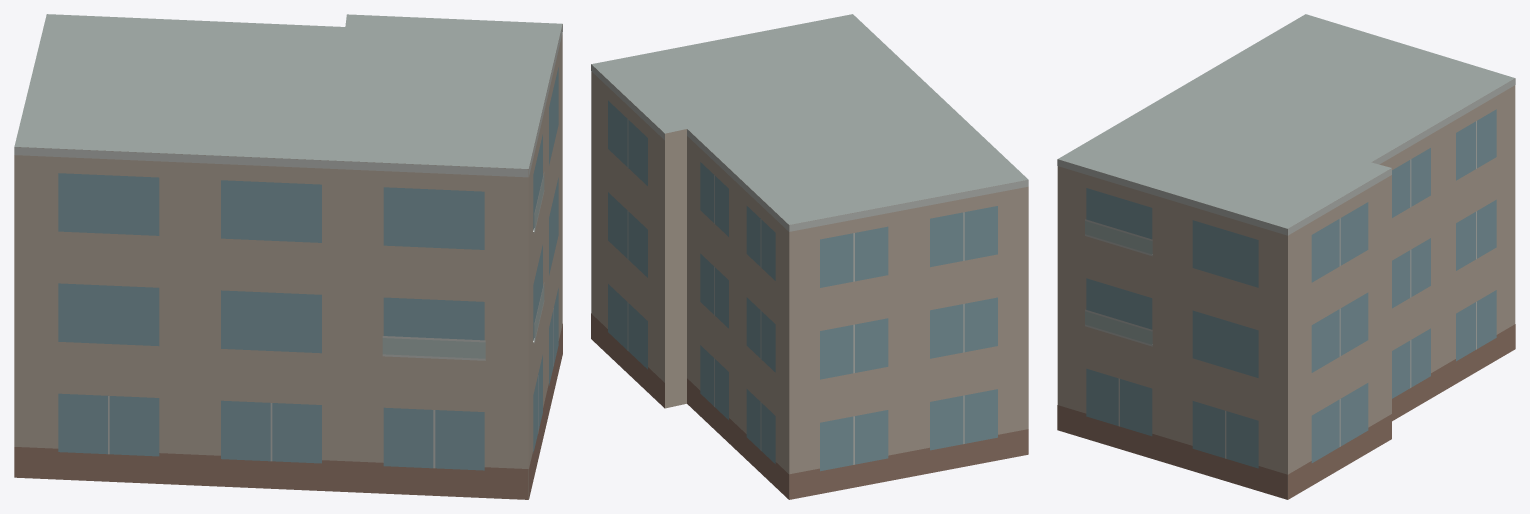
File: survey-upis-32493774.glb
The picture shows the model from 3 angles, left to right: view 1: azimuth 30°, elevation 25°; view 2: azimuth 150°, elevation 25°; view 3: azimuth 270°, elevation 25°; orthographic projection. The views are drawn at different scales.
Visible parts, largest first — view 1: survey-upis-32493774.tmp; view 2: survey-upis-32493774.tmp; view 3: survey-upis-32493774.tmp.
Boxes of the visible parts, x1=… form: survey-upis-32493774.tmp: x1=14, y1=14, x2=562, y2=499; survey-upis-32493774.tmp: x1=591, y1=14, x2=1028, y2=499; survey-upis-32493774.tmp: x1=1057, y1=14, x2=1515, y2=499.
Size of the model in its own units: 16.5 by 9.7 by 14.86.
